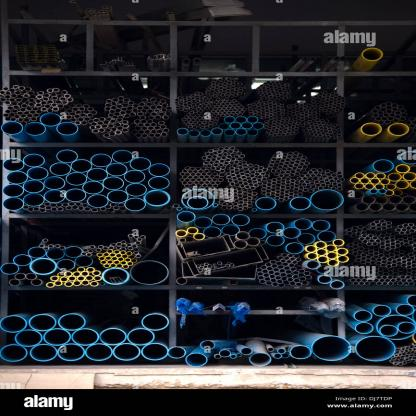PVC: (0, 299, 416, 370), (176, 216, 350, 288), (178, 145, 346, 215), (8, 76, 171, 143), (1, 150, 171, 214), (178, 77, 340, 143), (3, 232, 170, 288), (345, 220, 414, 286), (350, 152, 416, 212), (354, 106, 414, 144), (196, 262, 231, 271)
